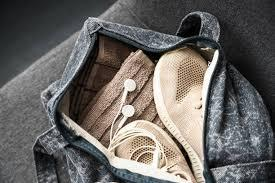bag: (34, 10, 275, 183)
